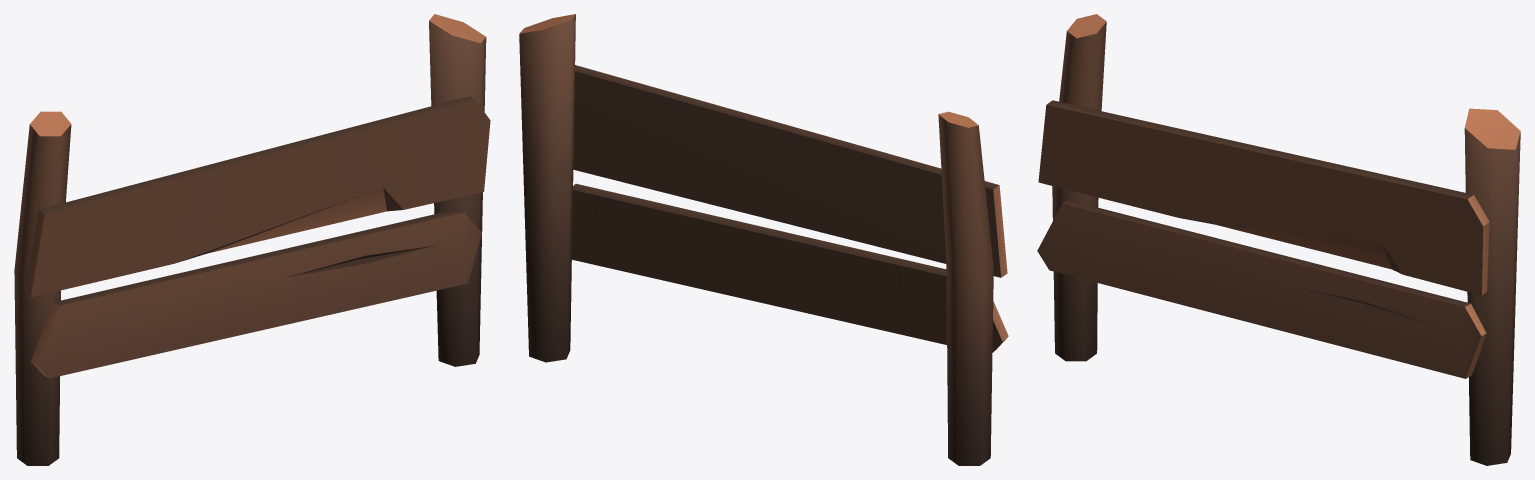
File: Fence_1C.fbx
The picture shows the model from 3 angles, left to right: view 1: azimuth 30°, elevation 25°; view 2: azimuth 150°, elevation 25°; view 3: azimuth 330°, elevation 25°; orthographic projection.
Parts seen in each view (by area): view 1: Fence_1C; view 2: Fence_1C; view 3: Fence_1C.
Boxes of the visible parts, x1,y1,x2,y2 form: Fence_1C: (14, 14, 490, 465); Fence_1C: (519, 14, 1008, 465); Fence_1C: (1037, 14, 1520, 465).
Size of the model in its own units: 174 by 121 by 23.19.
